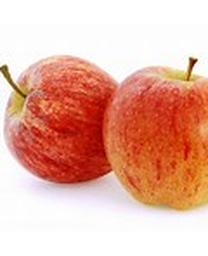apple: (102, 57, 207, 209), (0, 54, 119, 183)
